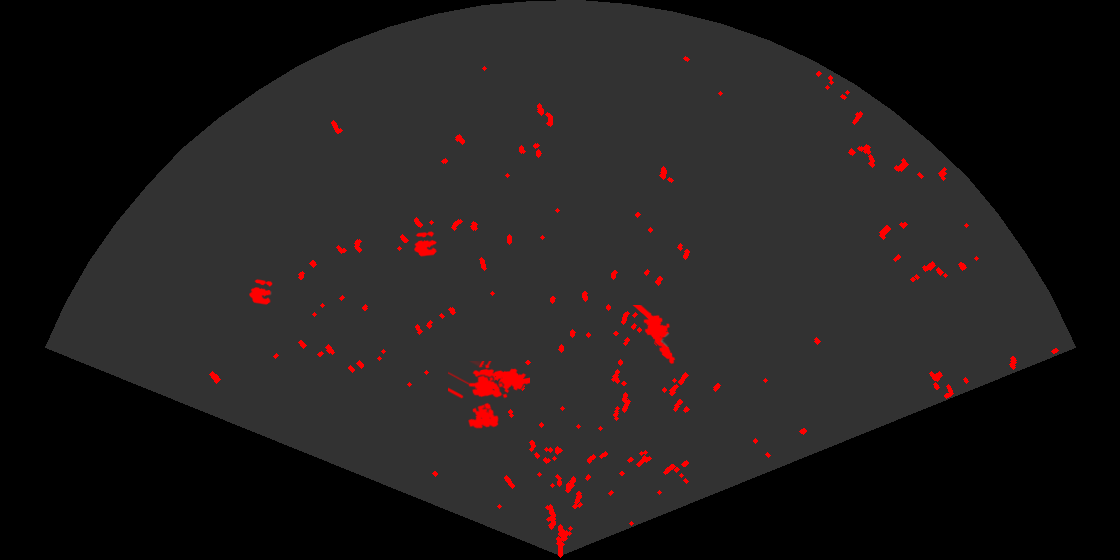ball: (413, 230, 439, 258), (248, 278, 274, 306)
cage: (448, 361, 509, 430)
frogman: (631, 305, 677, 366), (471, 367, 530, 395)
